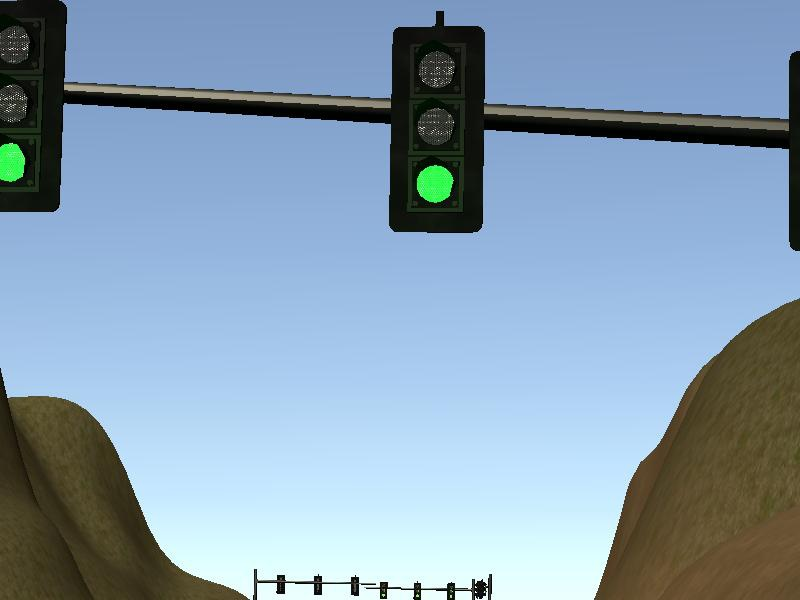green_light: (391, 27, 481, 229), (1, 1, 64, 214)
